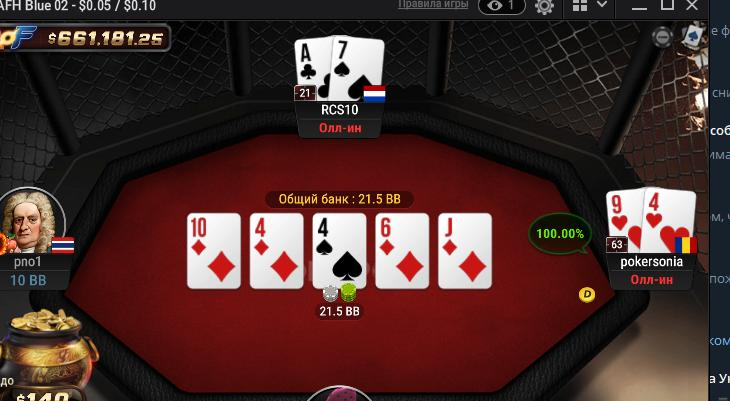10d: (188, 213, 239, 289)
4d: (251, 213, 303, 290)
4h: (643, 188, 694, 253)
4s: (312, 214, 366, 289)
6d: (376, 213, 428, 288)
7s: (331, 35, 384, 101)
9h: (607, 191, 643, 252)
Ac: (294, 37, 332, 99)
Jd: (438, 214, 492, 289)
